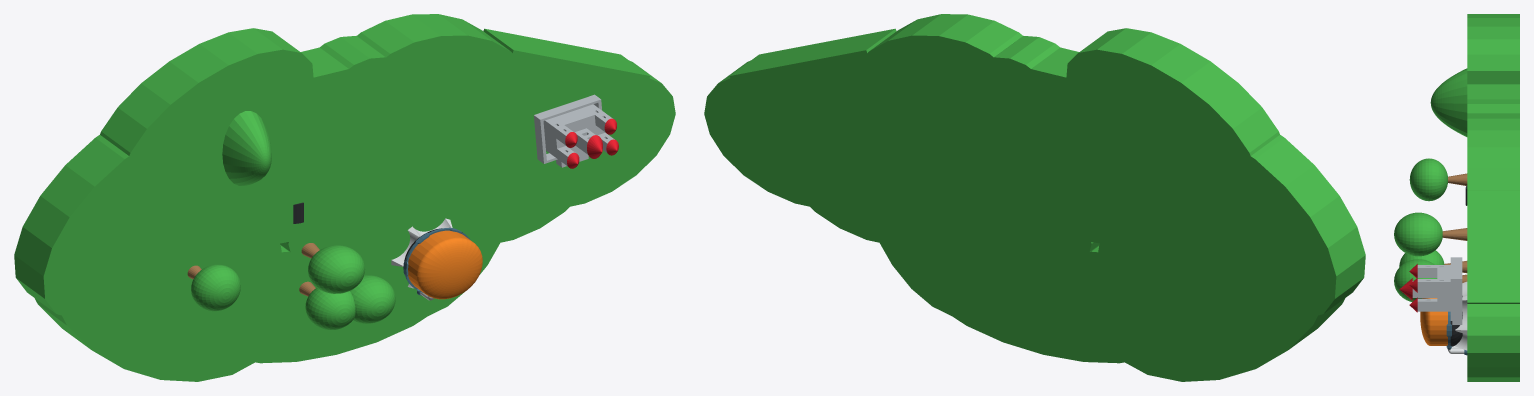
The model's file is tinker.obj.
The picture shows the model from 3 angles, left to right: view 1: azimuth 30°, elevation 25°; view 2: azimuth 150°, elevation 25°; view 3: azimuth 270°, elevation 25°; orthographic projection. The views are drawn at different scales.
Visible parts, largest first — view 1: group_0_4634441, group_0_16089887, group_0_12568524, group_0_15277357; view 2: group_0_4634441; view 3: group_0_4634441, group_0_12568524, group_0_16089887, group_0_11107152, group_0_14541540, group_0_15277357, group_0_2829873, group_0_5011340.
Boxes of the visible parts, box(x1,y1,x2,y2) form: group_0_4634441: box(14, 14, 675, 381); group_0_16089887: box(408, 230, 482, 299); group_0_12568524: box(533, 94, 614, 167); group_0_15277357: box(565, 118, 618, 168); group_0_4634441: box(704, 14, 1365, 381); group_0_4634441: box(1394, 14, 1519, 381); group_0_12568524: box(1412, 257, 1462, 324); group_0_16089887: box(1420, 298, 1447, 345); group_0_11107152: box(1442, 173, 1467, 282); group_0_14541540: box(1448, 281, 1467, 353); group_0_15277357: box(1399, 264, 1417, 312); group_0_2829873: box(1450, 185, 1467, 346); group_0_5011340: box(1446, 311, 1467, 355).
Size of the model in its own units: 124 by 60 by 24.
